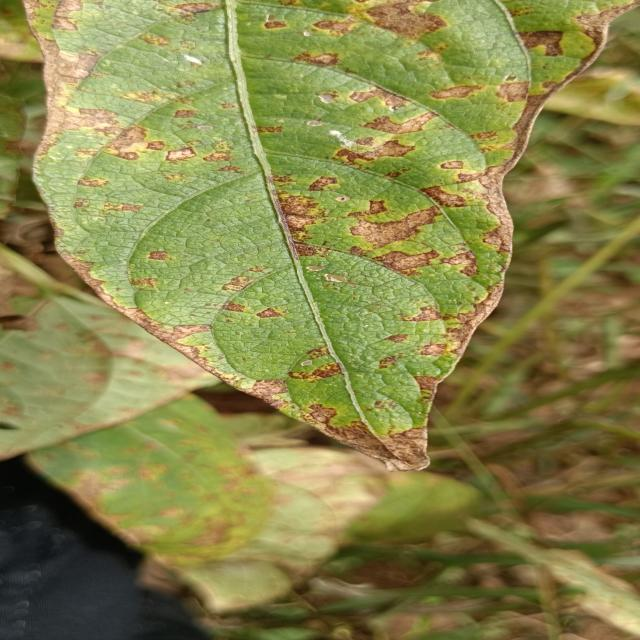Black gram_leaf spot: (21, 0, 640, 474), (8, 358, 306, 581)
